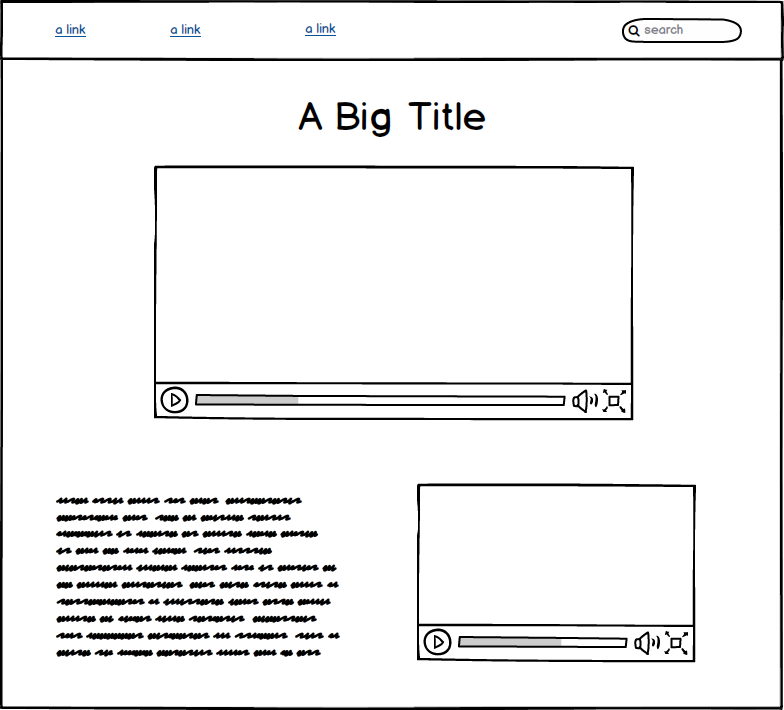h1: (289, 95, 495, 141)
navlink: (298, 16, 346, 45), (161, 17, 212, 42), (48, 19, 97, 45)
p: (47, 491, 351, 668)
search: (618, 10, 752, 46)
video: (146, 158, 642, 426), (408, 474, 697, 667)
